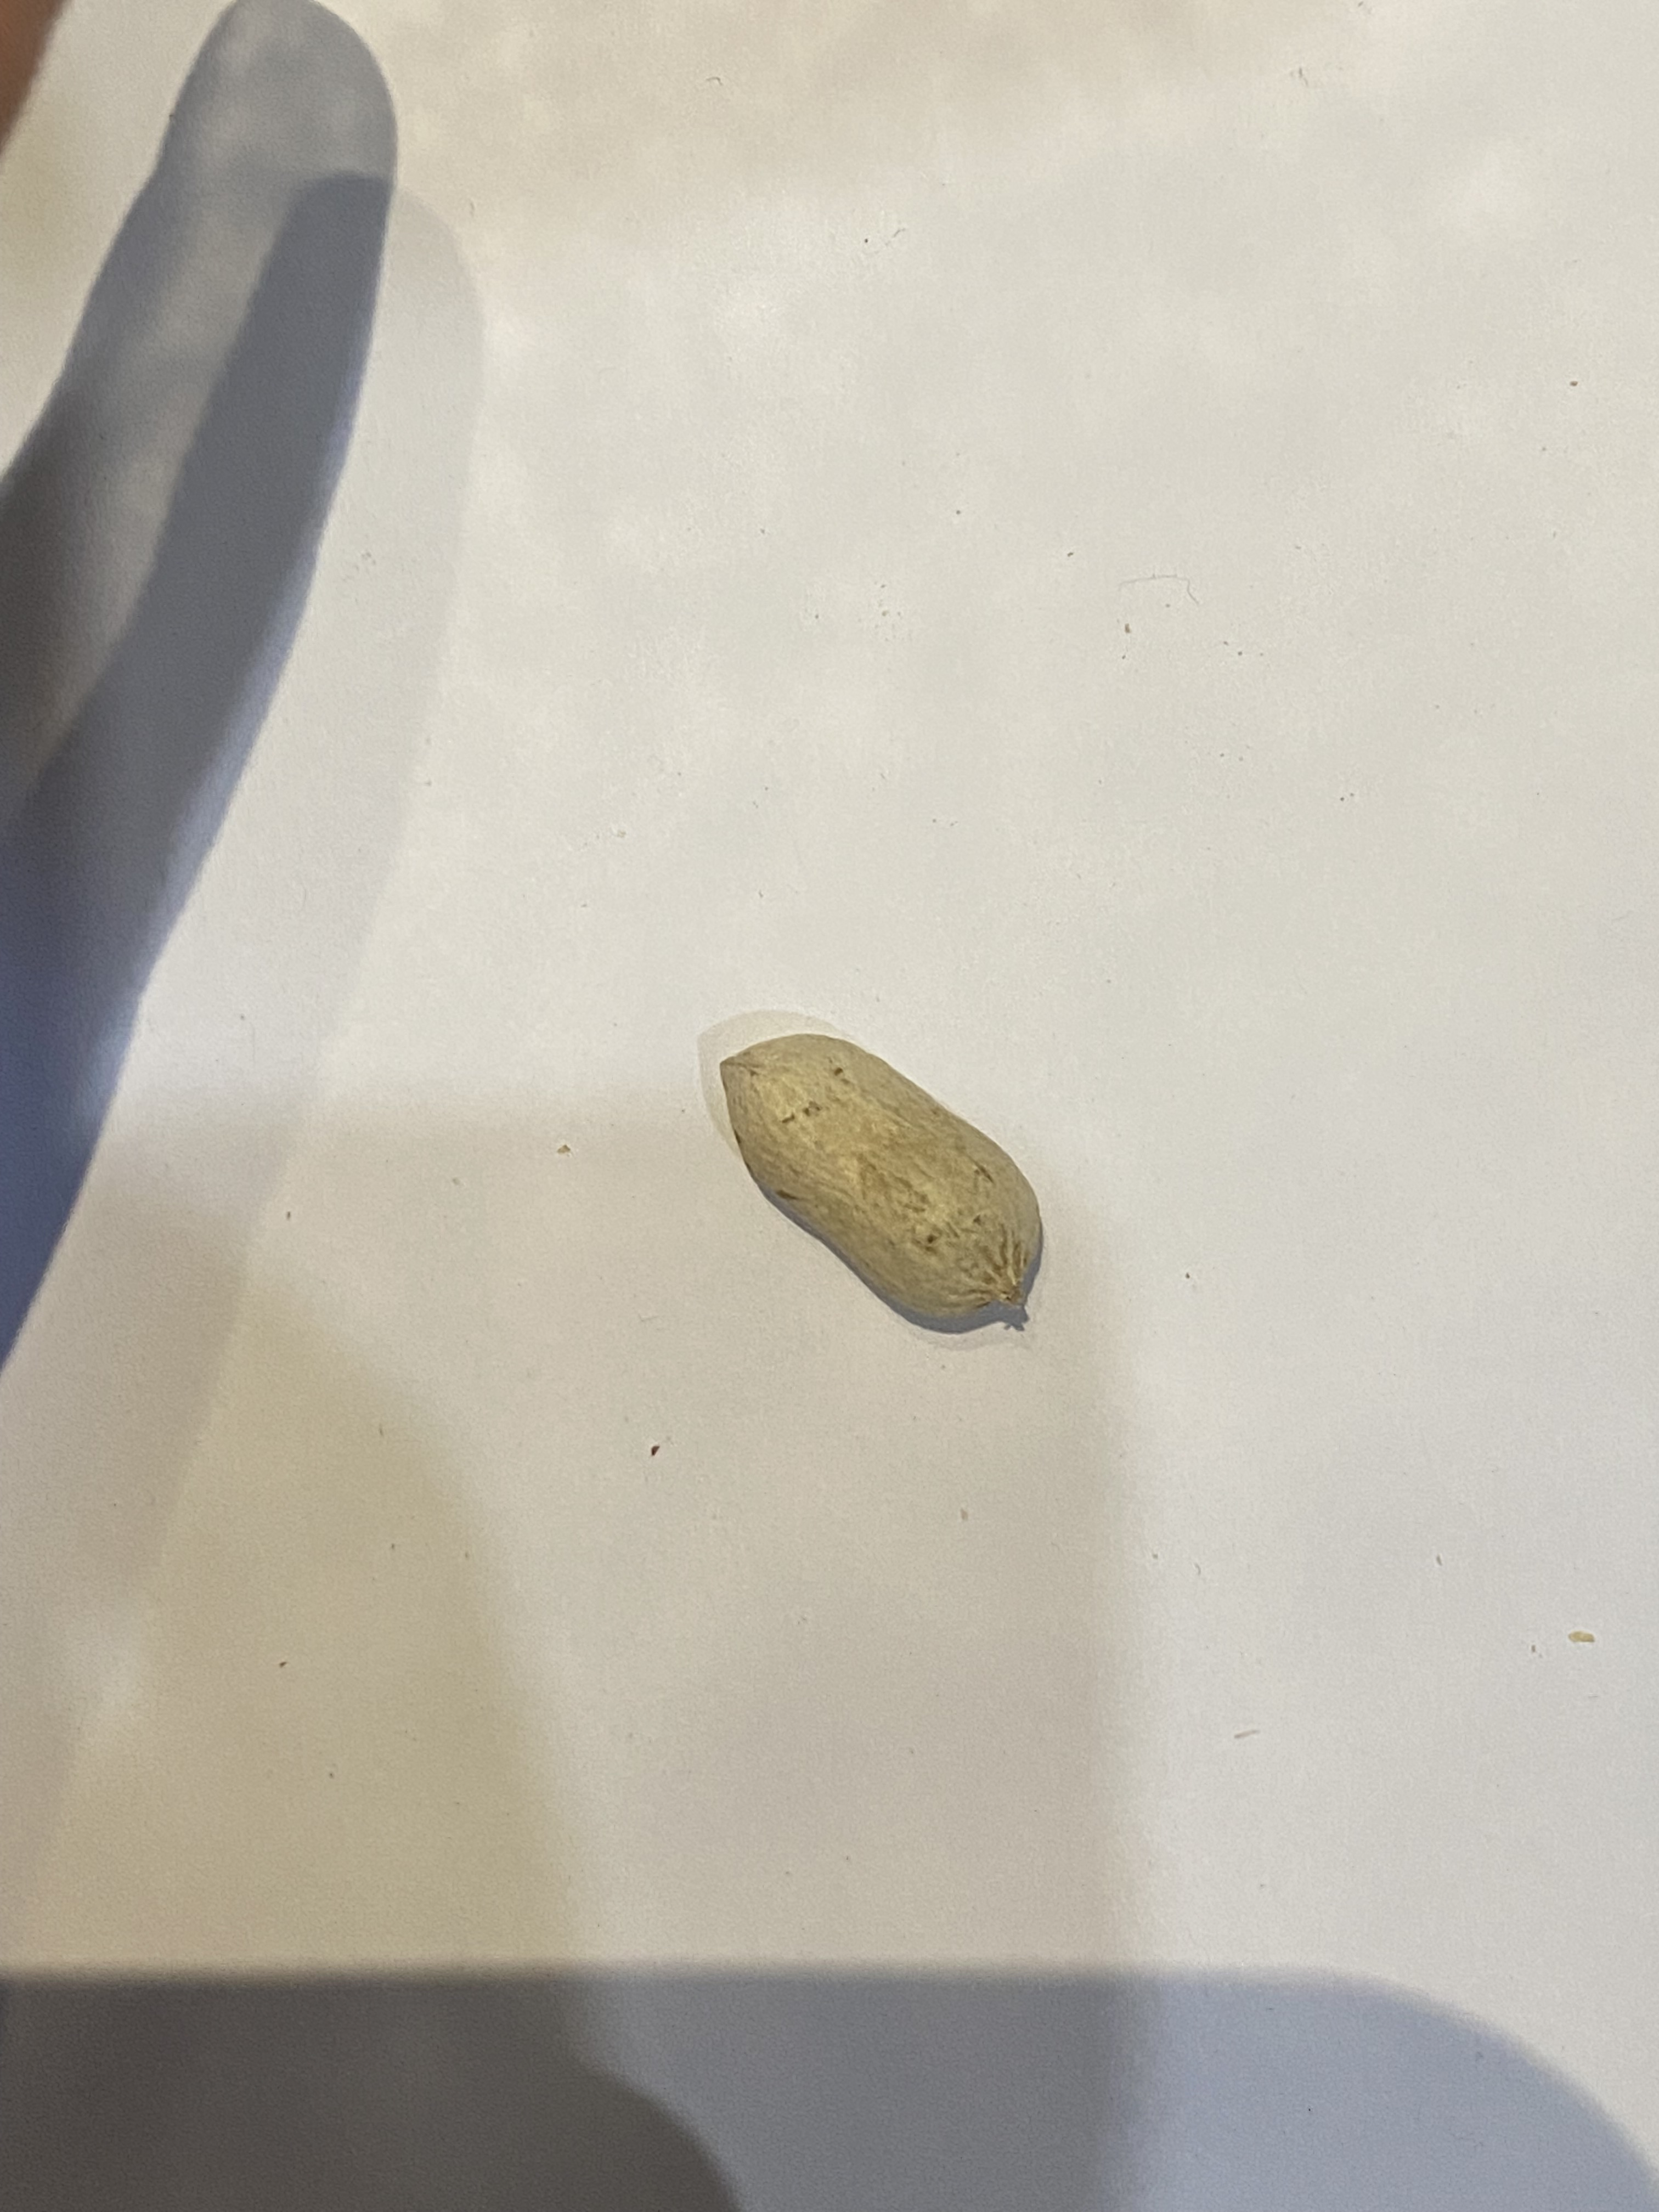kacang2: (711, 1019, 1053, 1334)
